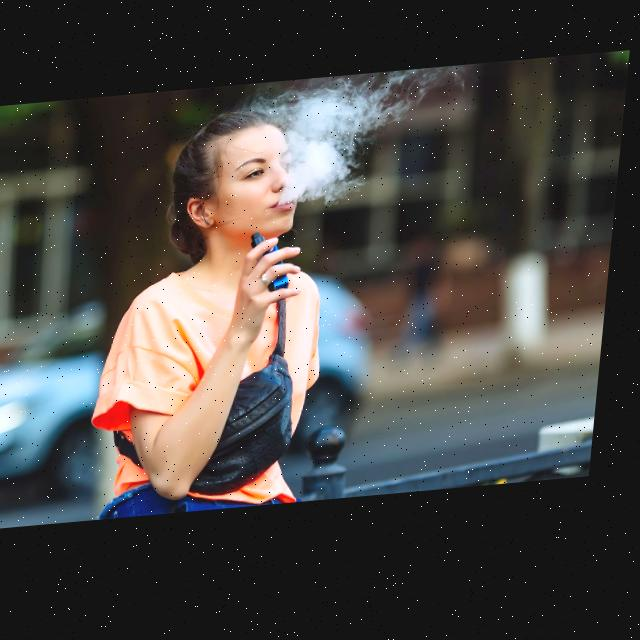vape: (251, 235, 299, 300)
